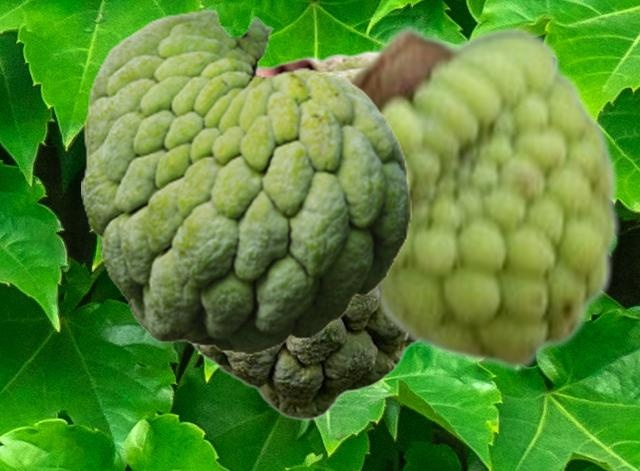atis: (81, 8, 410, 354), (345, 22, 621, 373), (191, 49, 413, 419)
